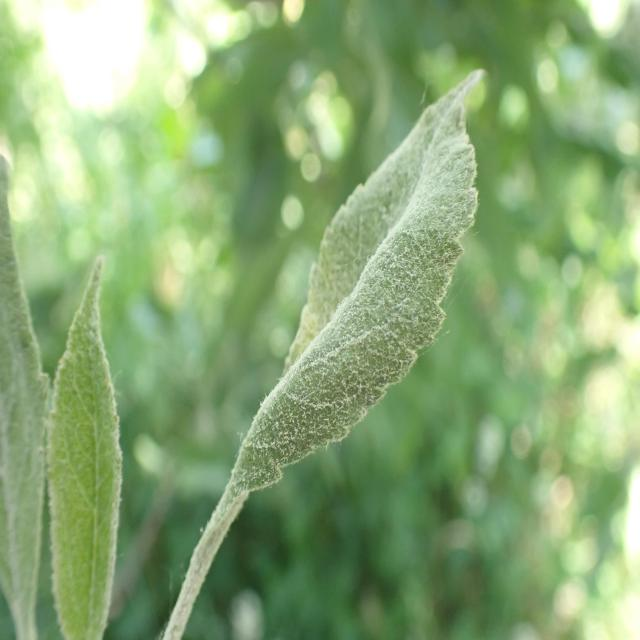Powdery_mildew: (197, 64, 489, 555), (50, 238, 121, 630), (0, 133, 54, 640)
